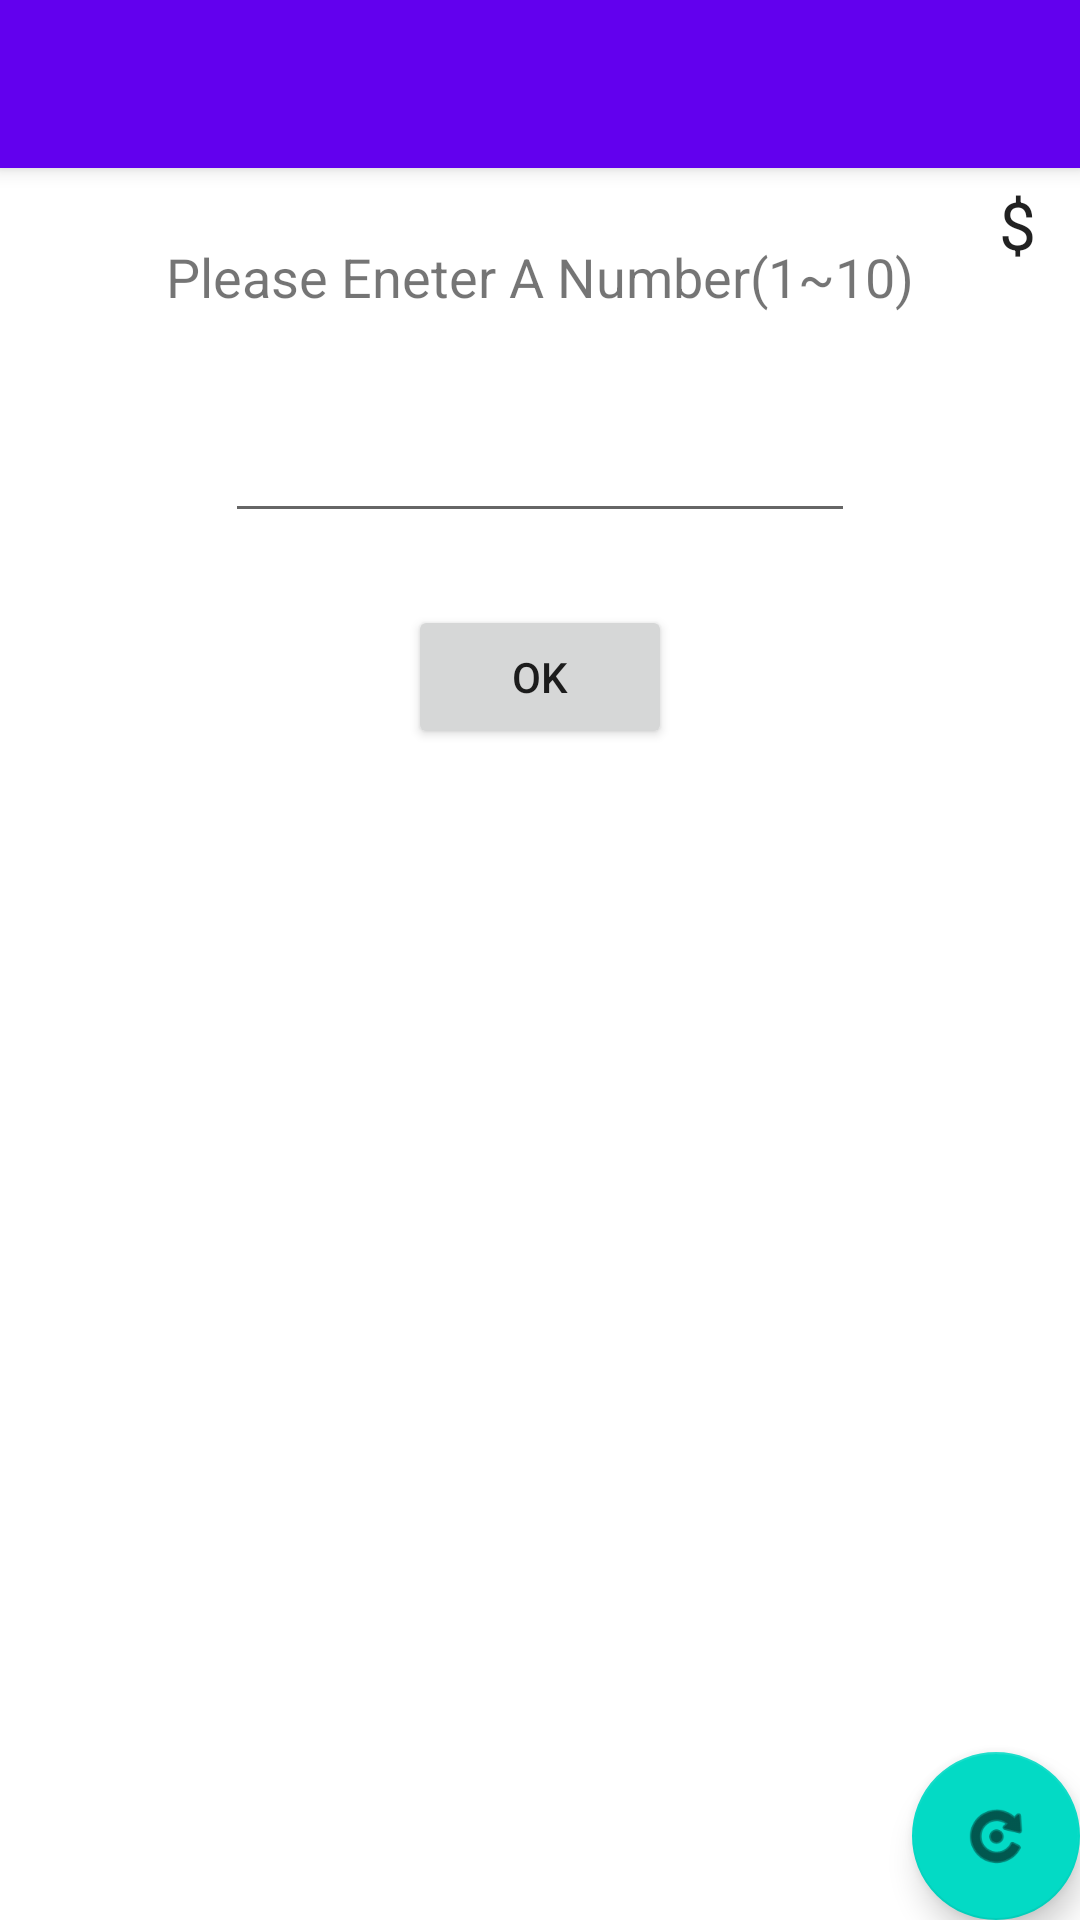

Where to tap for icons on this 1080px×1920px app screen, as point (x, y):
rotate: point (996, 1836)
